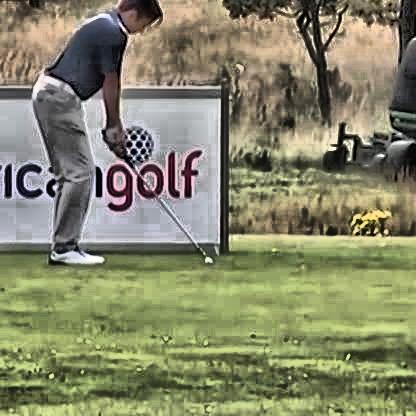golfball: (202, 254, 212, 264)
